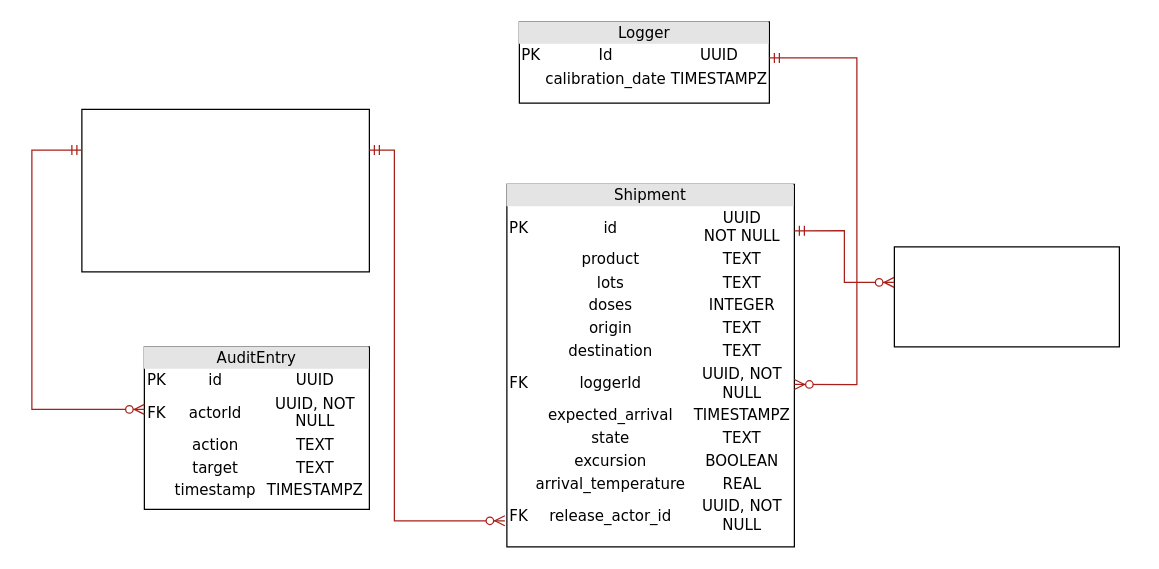
Image size: 1159x569. Some labels were removed from this diagram. Here are the shapes that lost their labels. From the top down, the centre of each, then its label:
point (225, 190): User PK Id UUID, NOT NULL name TEXT email TEXT role TEXT site TEXT
point (1006, 296): Reading FK,PK shipmentId UUID PK time TIMESTAMPZ temperature REAL
